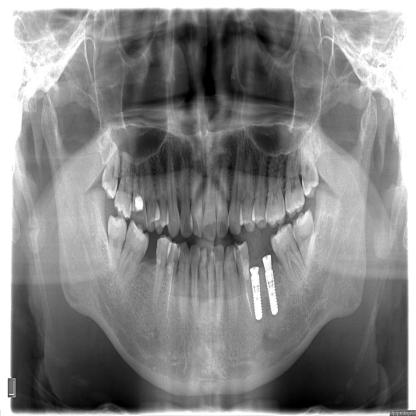ITI: (265, 266, 279, 320), (251, 272, 264, 324)
